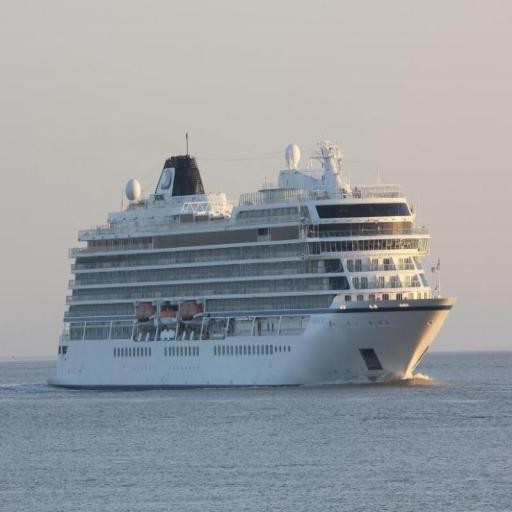cruises: (45, 129, 459, 399)
